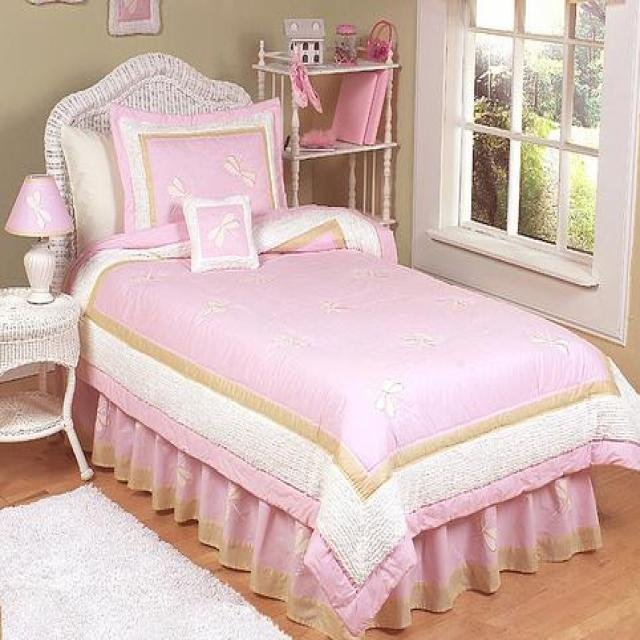bed: (42, 39, 638, 638)
table: (0, 283, 94, 481)
